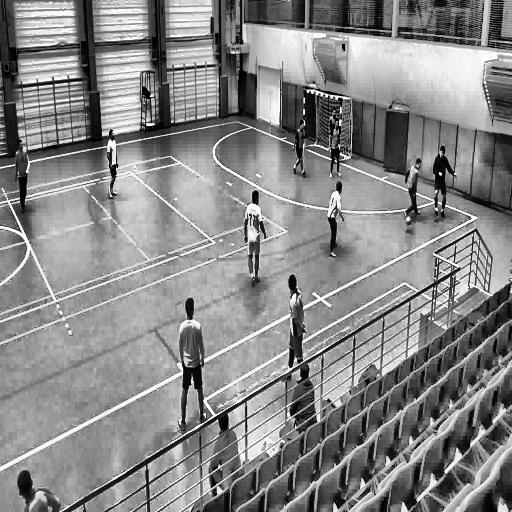ball: (406, 213, 412, 227)
player: (176, 297, 208, 431), (208, 411, 240, 495), (282, 270, 304, 385), (242, 191, 267, 289), (283, 360, 317, 430), (433, 144, 456, 222), (327, 181, 346, 259), (14, 138, 31, 216), (404, 158, 423, 218), (106, 128, 120, 202), (292, 118, 308, 179), (328, 120, 343, 178), (328, 107, 338, 152)
